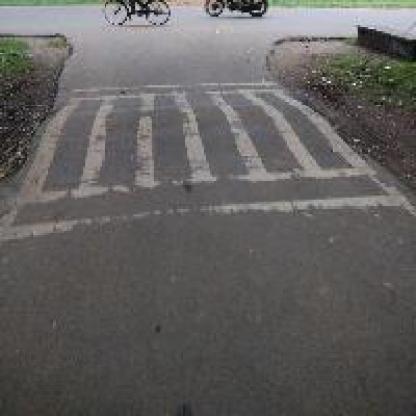Speed Bump: (0, 77, 404, 239)
